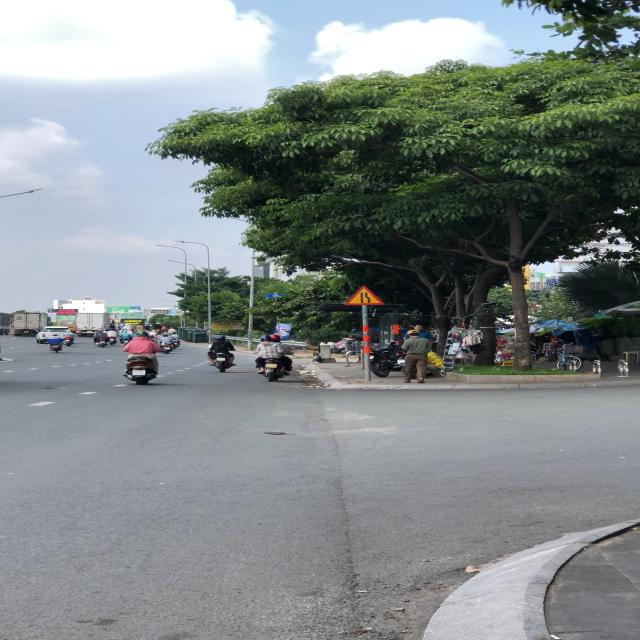Bien bao duong bi thu hep: (345, 284, 386, 306)
